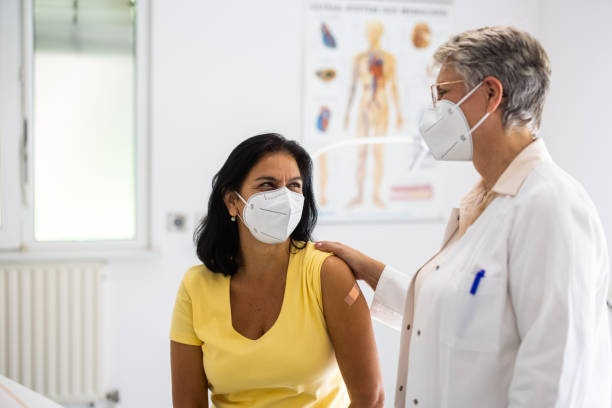mask: (417, 25, 554, 163), (219, 132, 318, 249)
person: (389, 23, 609, 408), (164, 130, 386, 408)
